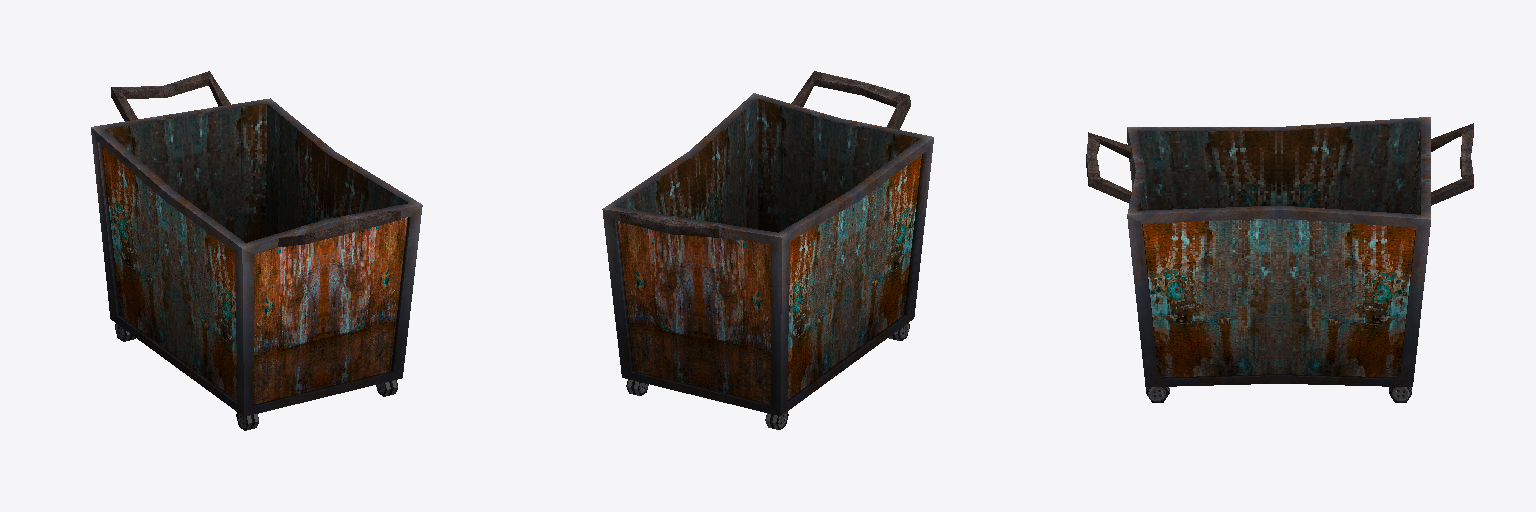
The picture shows the model from 3 angles: view 1: azimuth 30°, elevation 25°; view 2: azimuth 150°, elevation 25°; view 3: azimuth 270°, elevation 25°; orthographic projection.
Parts seen in each view (by area): view 1: Cart; view 2: Cart; view 3: Cart.
Boxes of the visible parts, x1,y1,x2,y2 form: Cart: [91, 71, 422, 430]; Cart: [602, 71, 933, 429]; Cart: [1086, 117, 1473, 402].
Size of the model in its own units: 2.13 by 2.47 by 3.97.
1 materials, 1 textured.